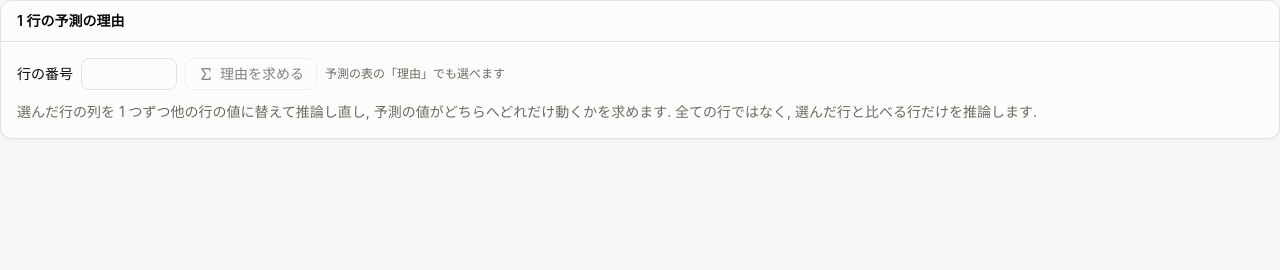
Scenario: 1 行の予測の理由 › 押すまで求めず, 選んだ行だけを求めて効きと理由を出す
expect the button "理由を求める" is disabled: met, box [185, 58, 317, 90]
Type "3" into the number field labelled "行の番号" at (129, 74), box [81, 58, 177, 90]
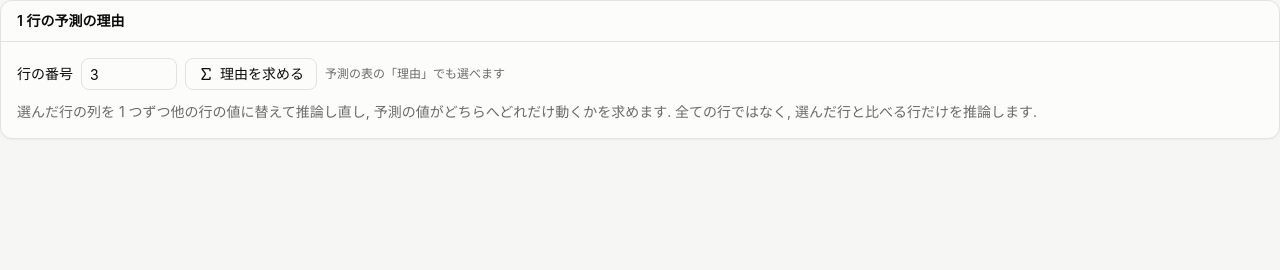
Click the button "理由を求める" at (251, 74), box [185, 58, 317, 90]
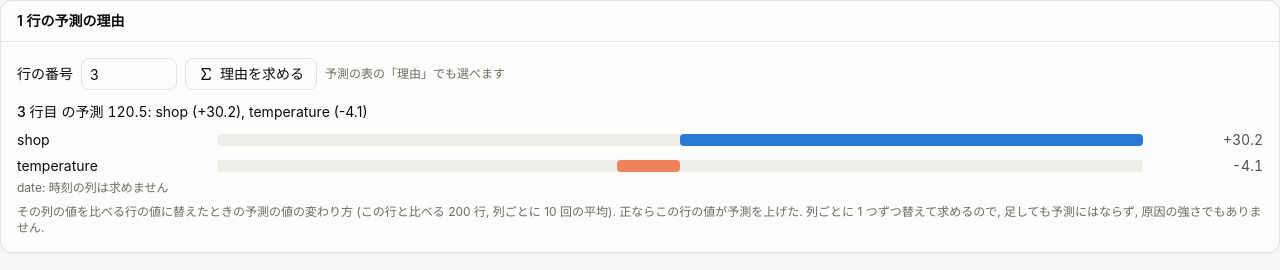
expect the text "3 行目 の予測 120.5: shop (+30.2), temperature (-4.1)" is shown: met, box [17, 103, 368, 120]
expect the list items read "shop+30.2", "temperature-4.1", in this order: met, box [17, 130, 1263, 150]; [17, 156, 1263, 176]
expect the text "date: 時刻の列は求めません" is shown: met, box [17, 180, 168, 195]
